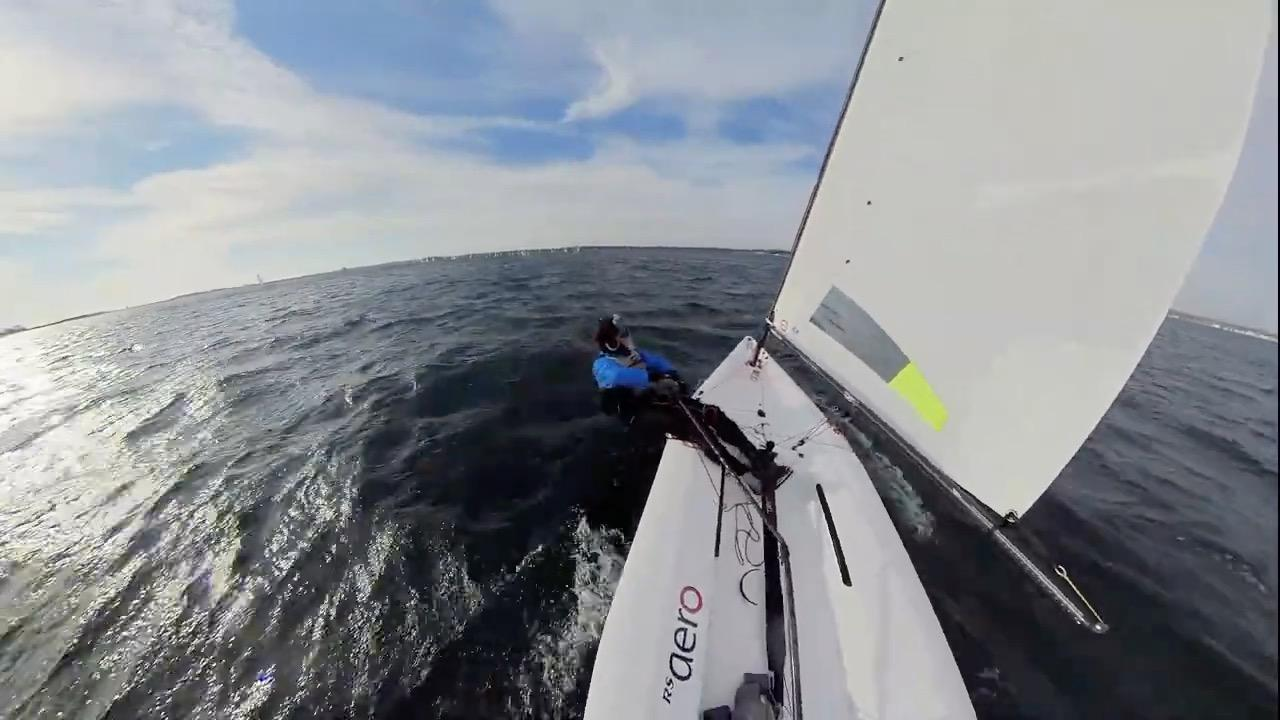boat: (768, 0, 1277, 523), (583, 336, 978, 720)
person: (592, 315, 787, 495)
sea: (0, 247, 1277, 720)
sky: (0, 0, 883, 330), (1187, 48, 1278, 333)
